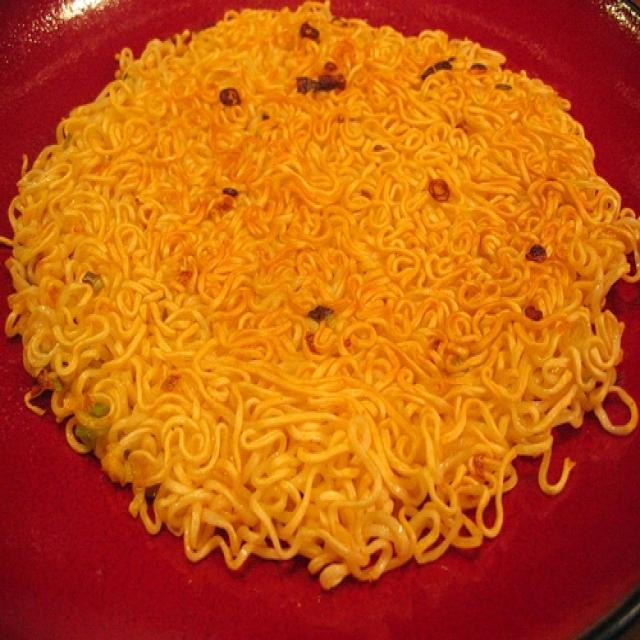面条主食: (12, 10, 627, 562)
